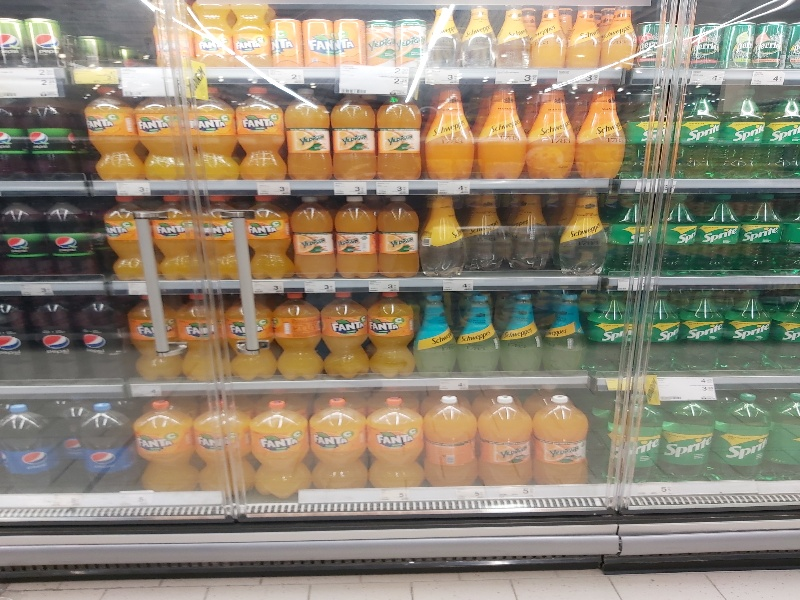urun1: (532, 388, 592, 484), (420, 386, 480, 482), (366, 387, 426, 483), (304, 385, 364, 481), (131, 392, 191, 488), (84, 86, 142, 183), (136, 85, 190, 185), (326, 82, 380, 182), (418, 84, 472, 184), (472, 81, 526, 181), (522, 76, 576, 176), (718, 83, 770, 183), (21, 93, 80, 180), (661, 389, 716, 472), (559, 189, 608, 278), (1, 399, 46, 493), (497, 289, 543, 377), (637, 284, 683, 372), (677, 287, 723, 375), (724, 285, 770, 373), (33, 290, 76, 384), (105, 191, 149, 282), (422, 190, 465, 282), (378, 189, 421, 281), (293, 188, 336, 280), (250, 187, 293, 279), (466, 190, 510, 274), (77, 293, 120, 378), (133, 296, 176, 381), (179, 296, 222, 381), (1, 190, 41, 281), (607, 190, 647, 274), (742, 189, 780, 274), (150, 1, 194, 67), (423, 2, 463, 70), (456, 2, 496, 70), (600, 1, 640, 69), (363, 1, 397, 67), (27, 7, 62, 66)
urun2: (477, 387, 537, 483), (244, 388, 304, 484), (194, 387, 254, 483), (80, 391, 140, 487), (183, 81, 237, 181), (232, 80, 286, 180), (278, 84, 332, 184), (373, 82, 427, 182), (578, 77, 632, 177), (671, 77, 723, 177), (226, 293, 280, 382), (45, 192, 95, 284), (717, 389, 772, 472), (609, 393, 664, 476), (272, 291, 321, 380), (323, 290, 369, 378), (369, 289, 415, 377), (409, 289, 455, 377), (454, 289, 500, 377), (541, 290, 587, 378), (592, 284, 638, 372), (336, 186, 379, 278), (201, 188, 244, 280), (153, 191, 196, 283), (765, 81, 800, 180), (703, 189, 741, 274), (666, 189, 704, 274), (1, 294, 33, 388), (225, 1, 271, 66), (517, 191, 557, 265), (187, 1, 231, 67), (527, 1, 567, 69), (563, 4, 603, 72), (494, 1, 534, 68), (301, 4, 335, 70), (331, 4, 365, 70), (392, 1, 426, 67), (269, 1, 303, 66), (1, 9, 25, 73)
